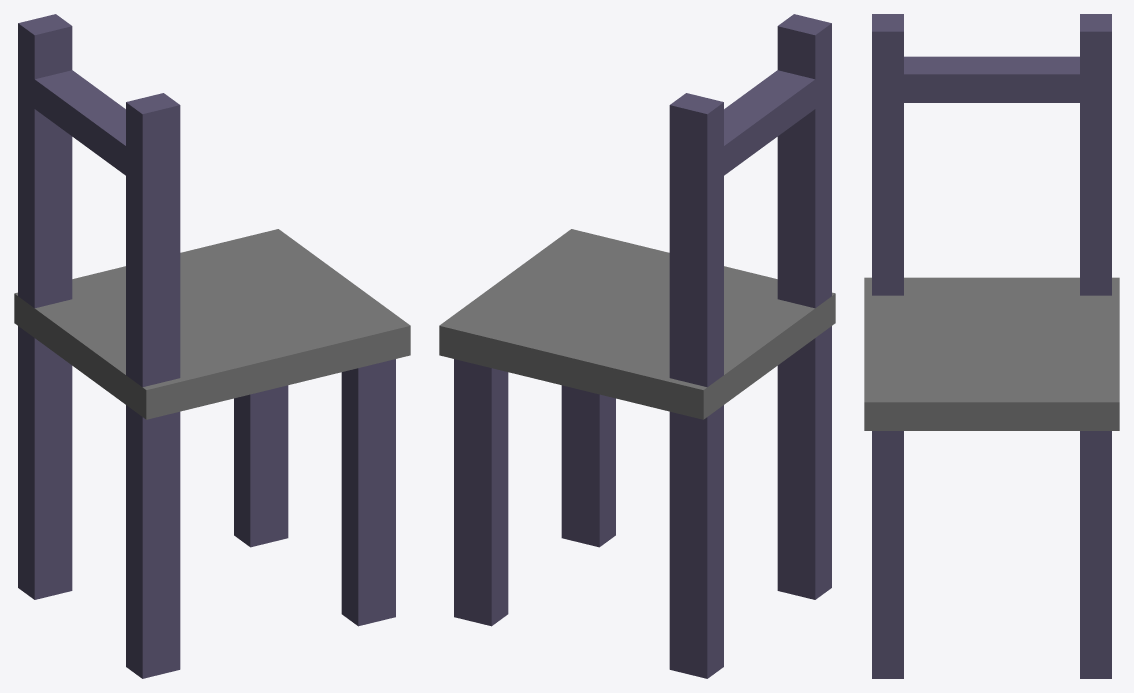
The model's file is Basic chair.glb.
3 views of the same model, side by side, from view 1: azimuth 30°, elevation 25°; view 2: azimuth 150°, elevation 25°; view 3: azimuth 270°, elevation 25° (orthographic). The views are drawn at different scales.
Parts seen in each view (by area): view 1: Cube; view 2: Cube; view 3: Cube.
Part boxes in pixels (box(x1,y1,x2,y2)): Cube: box(14, 14, 410, 678); Cube: box(439, 14, 835, 678); Cube: box(864, 14, 1119, 678).
Size of the model in its own units: 1.87 by 3.81 by 1.62.
